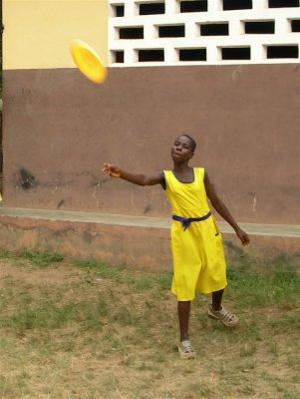person: (102, 134, 251, 361)
